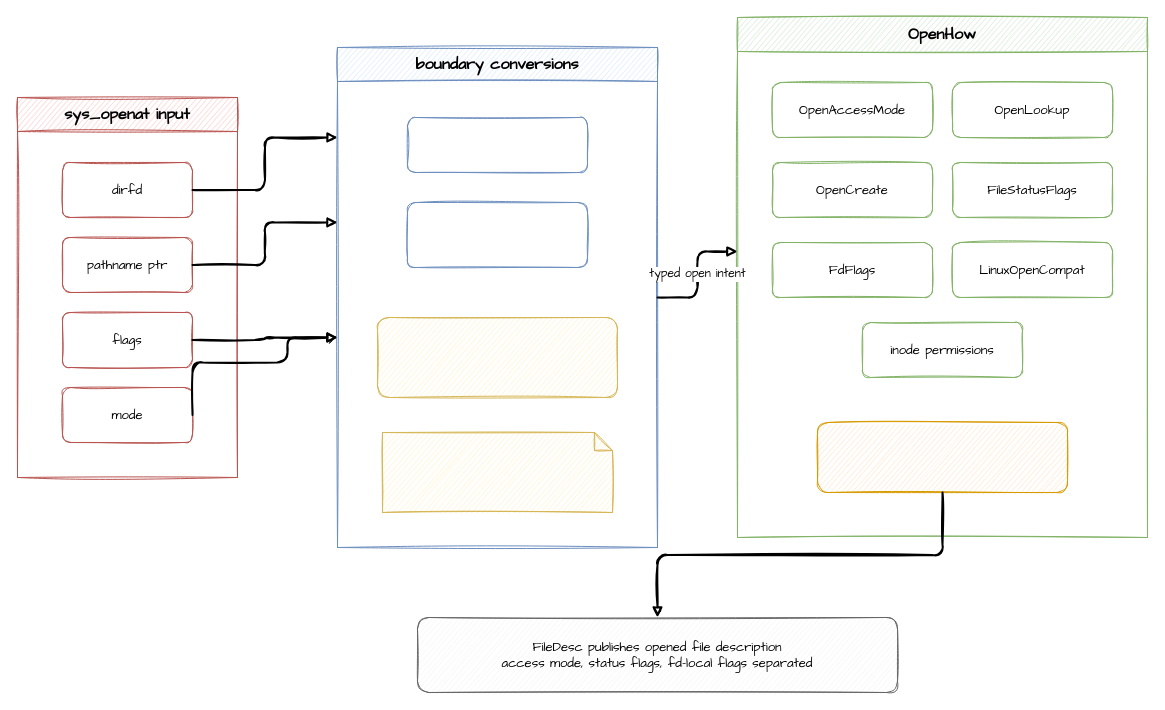
This 1165x710 diagram has some shape labels left out. The centre of each missing label's shape, as x and y in pixels:
AtFd: point 497,144
c_readonly_path -> Box<str>: point 497,235
OpenHow::from_linux(flags, mode): point 497,357
unknown flags fail compat noise logged here: point 497,472
VFS lookup / create / open: point 942,457
